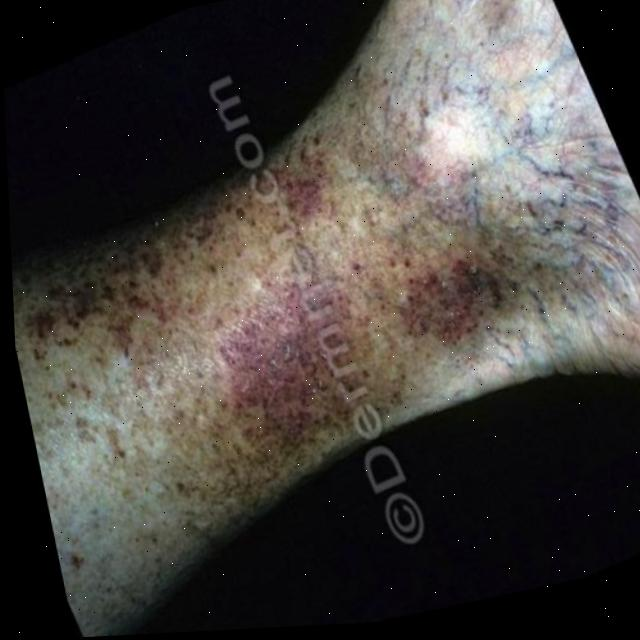Eczema: (24, 152, 566, 493)
